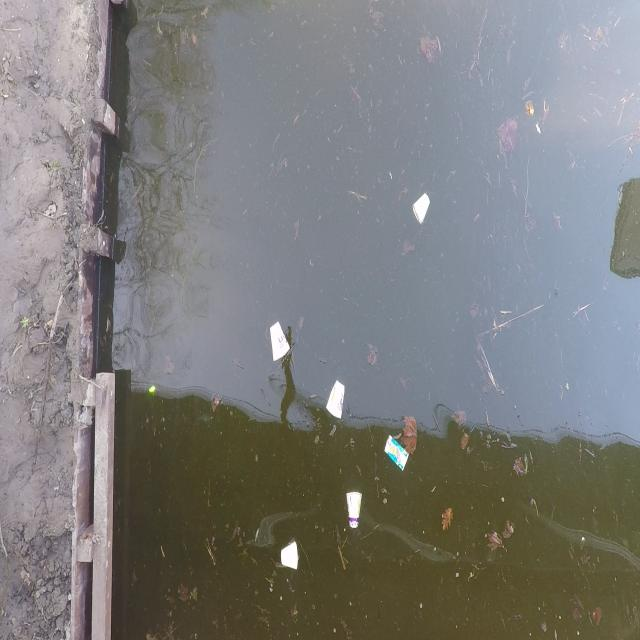Non plastique: (380, 428, 414, 482), (324, 371, 350, 427), (343, 484, 368, 537), (267, 318, 294, 365), (276, 535, 302, 577), (411, 191, 434, 229)
